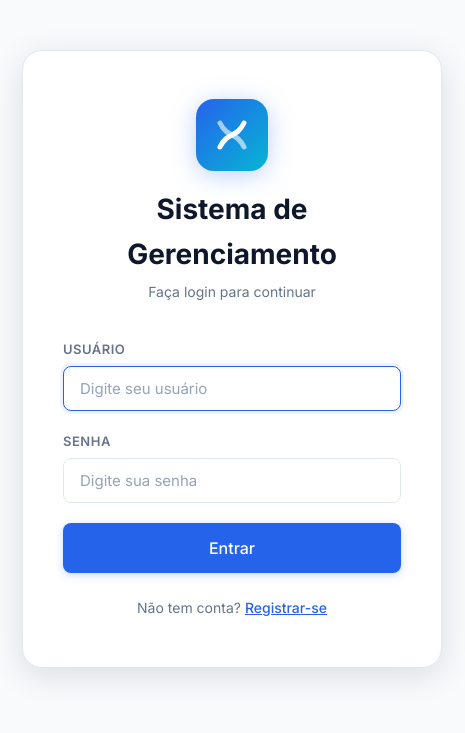
it: Login Page › shows error when submitting empty login form
Click the button "Entrar": click(232, 548) [63, 523, 401, 573]
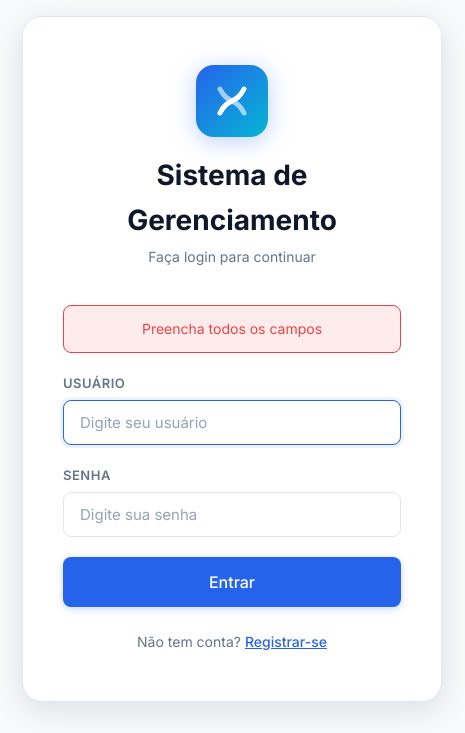
Expected: the text "Preencha todos os campos" is shown, [63, 305, 401, 353]
